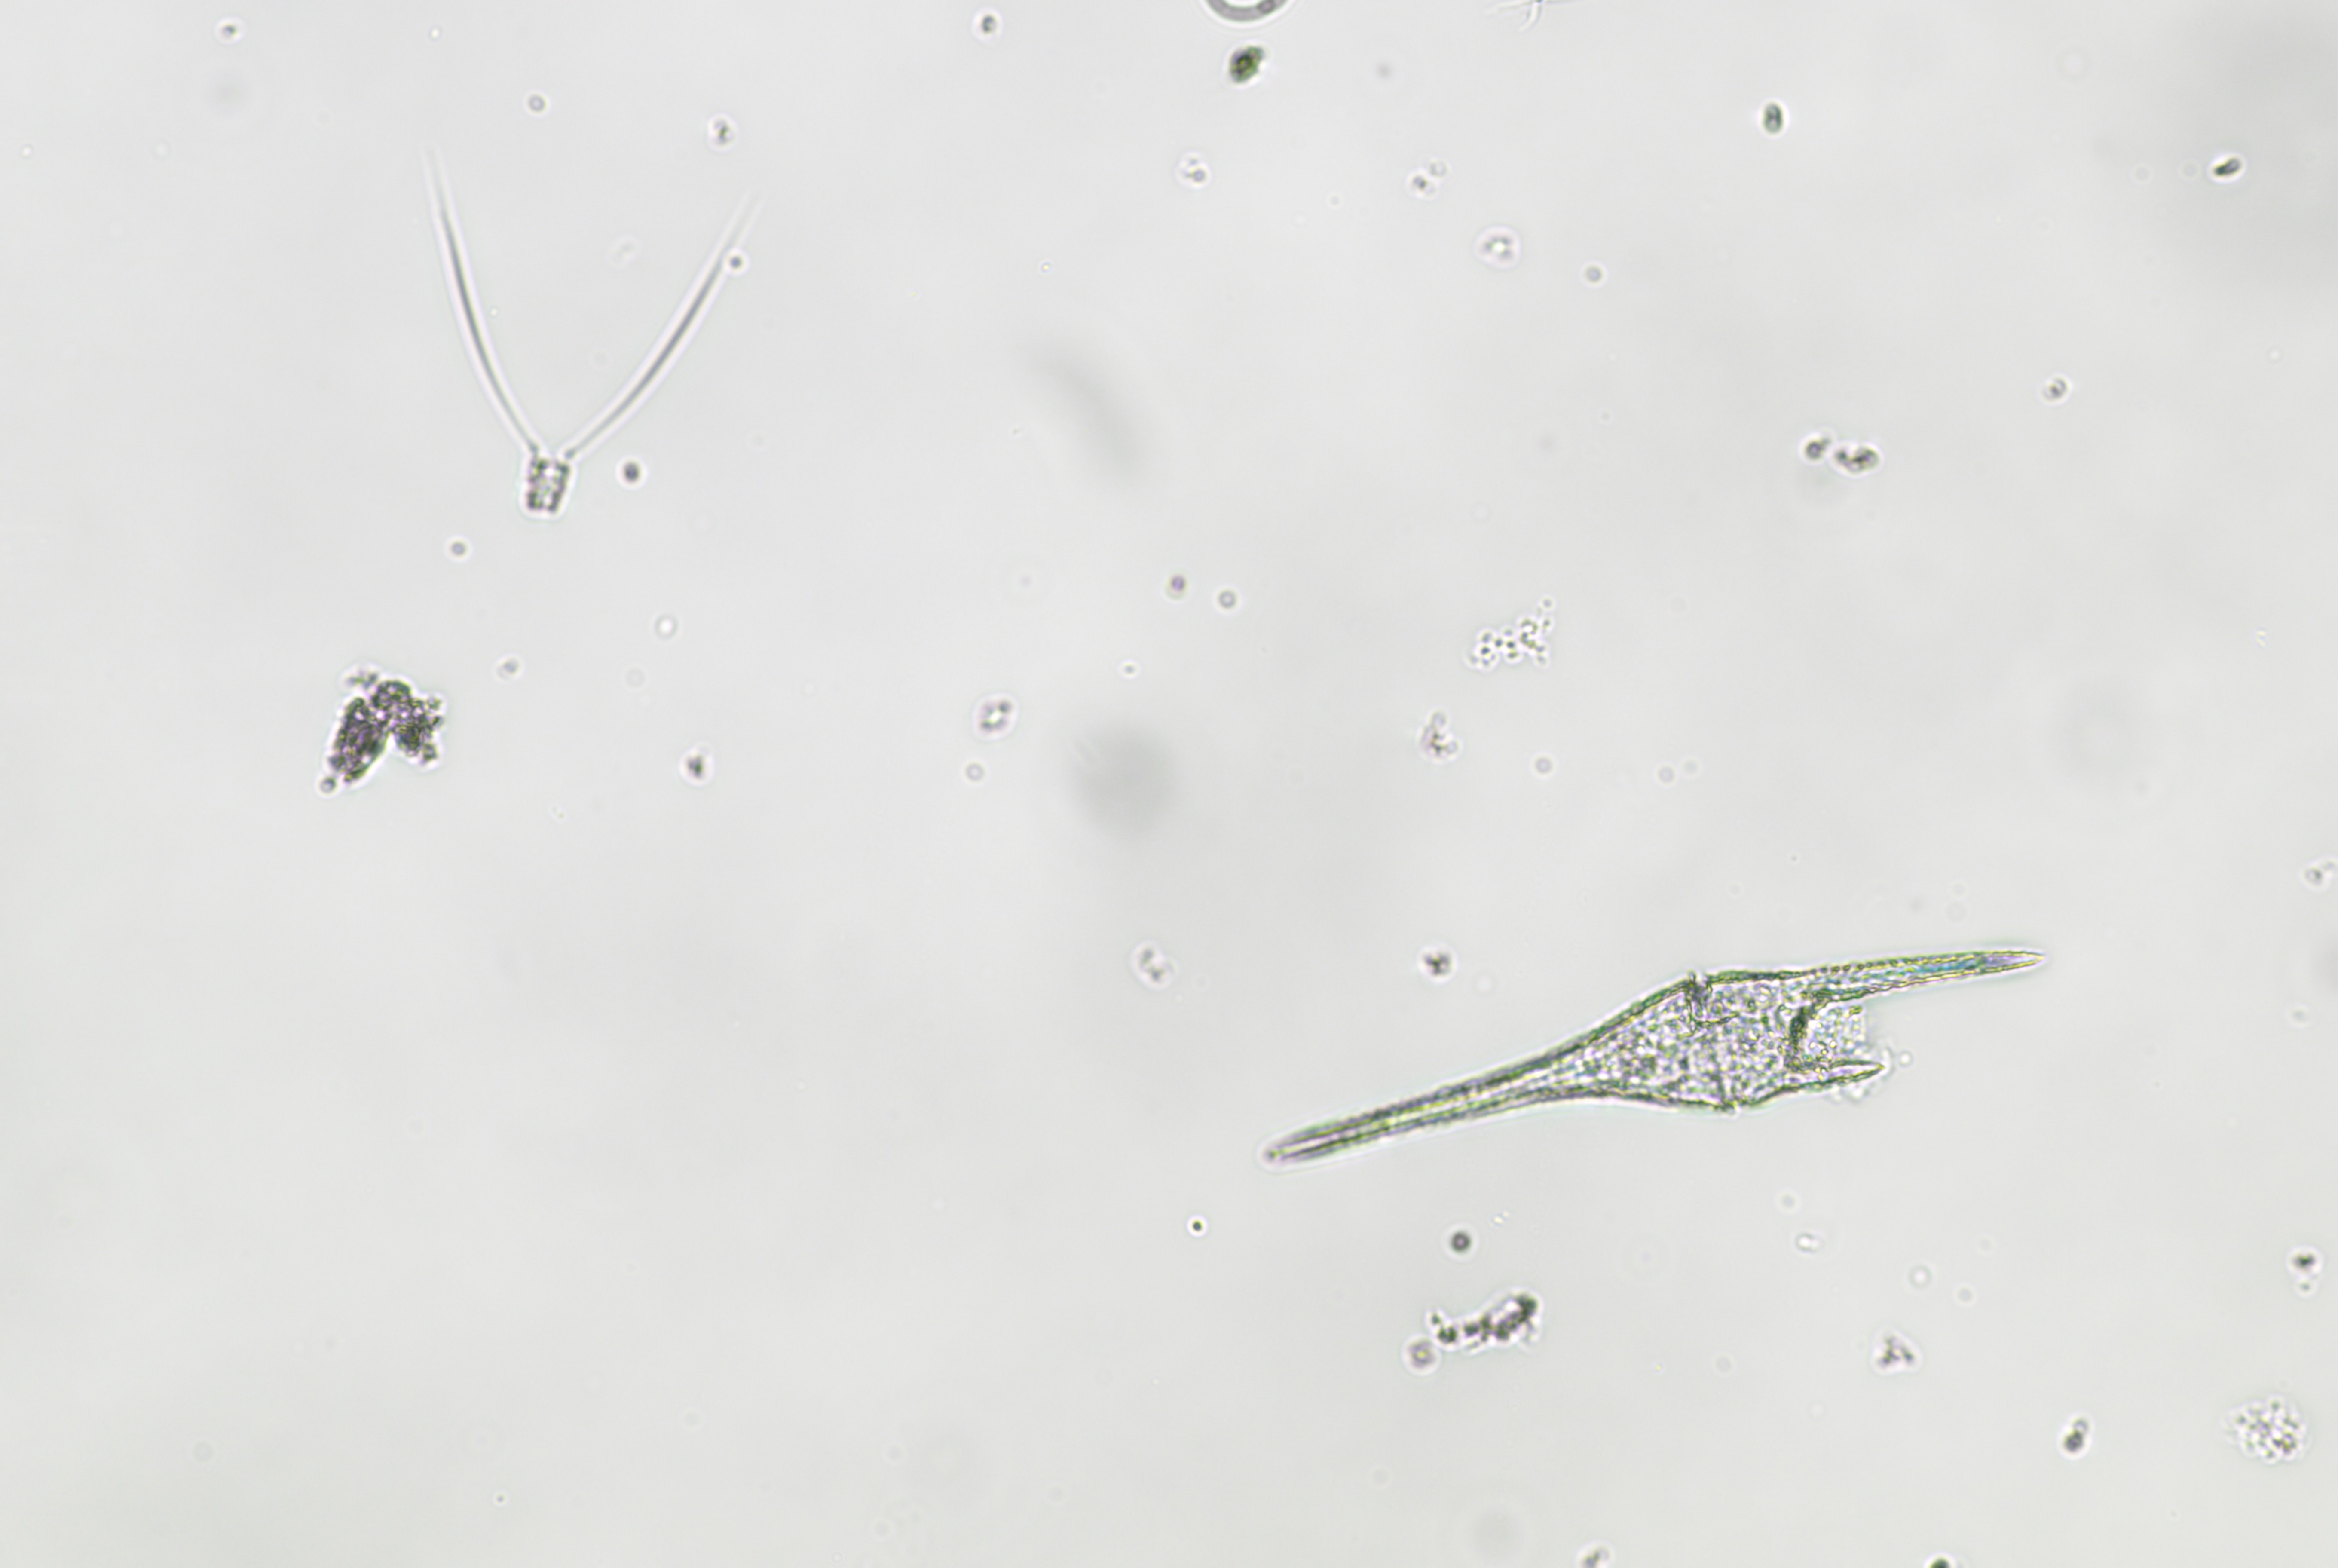ceratium furca: (1241, 929, 2075, 1172)
chaetoceros: (374, 135, 777, 567)
